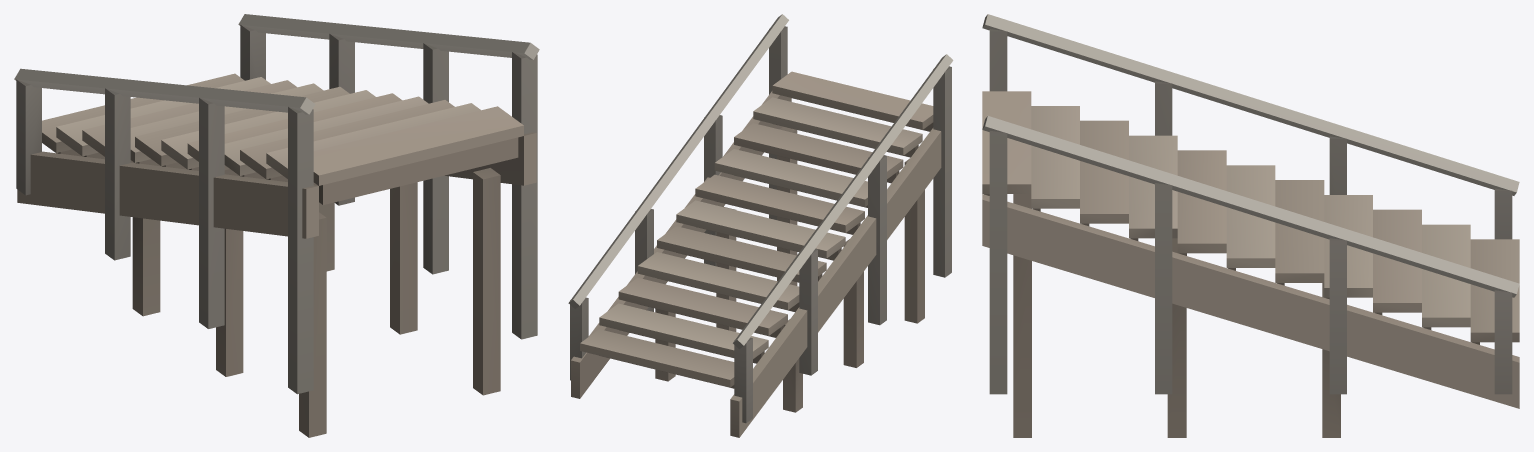
The model's file is walkover.lod1.glb.
3 renders of one model, left to right at view 1: azimuth 30°, elevation 25°; view 2: azimuth 150°, elevation 25°; view 3: azimuth 270°, elevation 25°, orthographic. The views are drawn at different scales.
Size of the model in its own units: 1.92 by 2.71 by 4.
